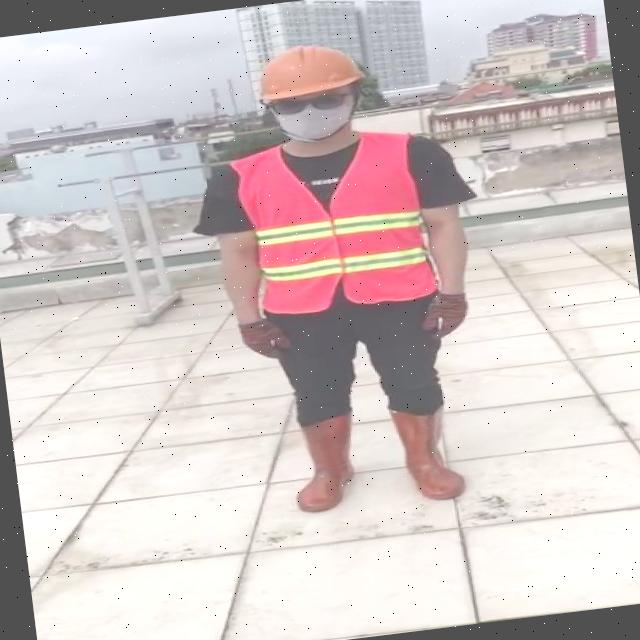boots: (387, 400, 468, 504), (284, 414, 364, 514)
helmet: (248, 36, 366, 103)
vest: (234, 126, 438, 318)
